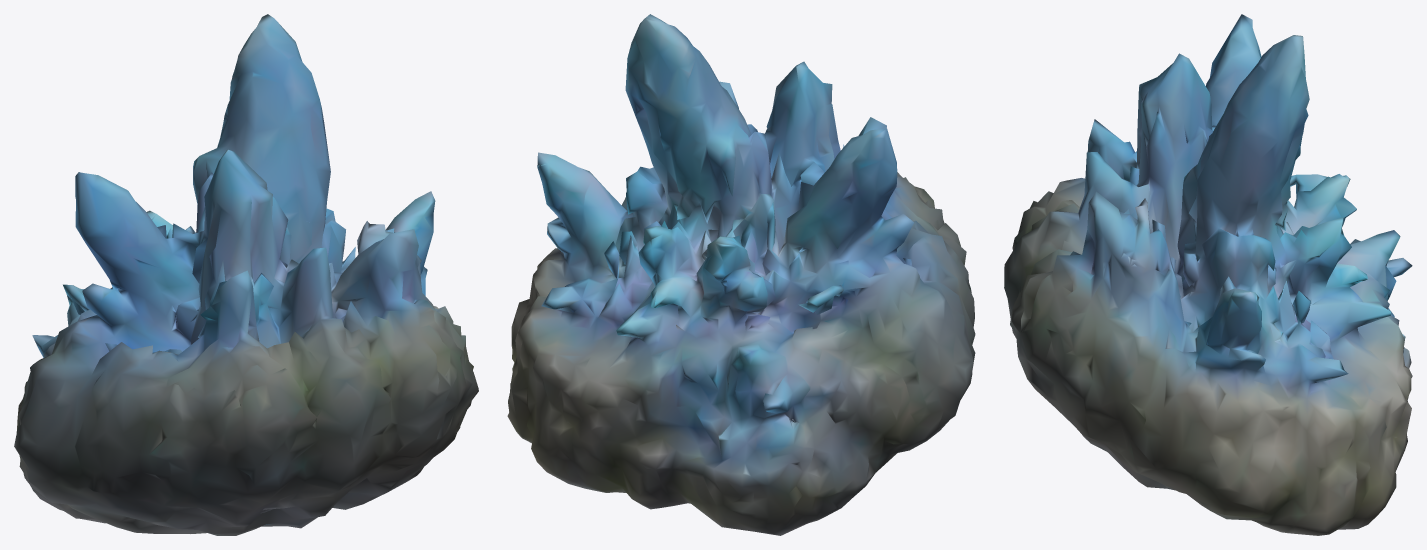
The model's file is crystal_cluster_1787078933118.glb.
The picture shows the model from 3 angles, left to right: view 1: azimuth 30°, elevation 25°; view 2: azimuth 150°, elevation 25°; view 3: azimuth 270°, elevation 25°; orthographic projection. The views are drawn at different scales.
Size of the model in its own units: 0.9874 by 0.9874 by 0.7807.
